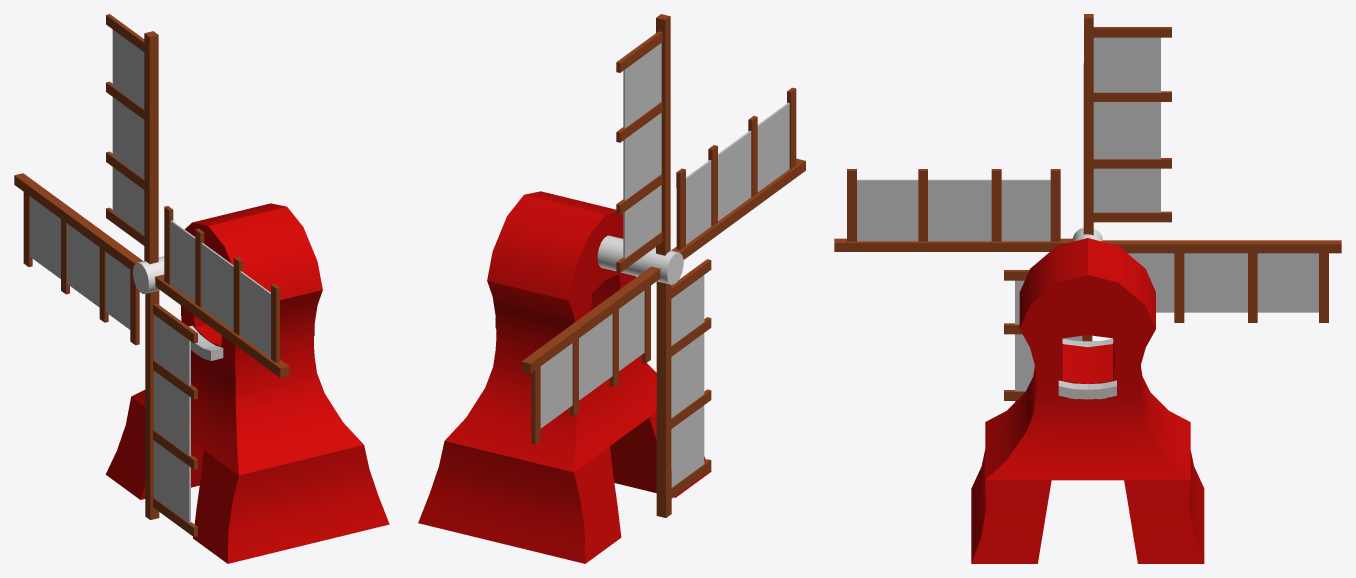
Rendered from Moulin_level0.fbx.
3 views of the same model, side by side, from view 1: azimuth 30°, elevation 25°; view 2: azimuth 150°, elevation 25°; view 3: azimuth 270°, elevation 25° (orthographic). The views are drawn at different scales.
Parts seen in each view (by area): view 1: Cube.184, Cube.185, Cube.187, Cube.186, Cube.188, Cylinder.013; view 2: Cube.184, Cube.187, Cube.185, Cube.188, Cube.186, Cylinder.013; view 3: Cube.184, Cube.186, Cube.185, Cube.188, Cube.187.
Boxes of the visible parts, bbox=[...] form: Cube.184: bbox=[105, 203, 389, 563]; Cube.185: bbox=[106, 14, 158, 264]; Cube.187: bbox=[145, 290, 197, 536]; Cube.186: bbox=[155, 206, 289, 377]; Cube.188: bbox=[14, 173, 143, 345]; Cylinder.013: bbox=[133, 256, 164, 293]; Cube.184: bbox=[418, 191, 711, 563]; Cube.187: bbox=[656, 259, 711, 517]; Cube.185: bbox=[616, 14, 670, 272]; Cube.188: bbox=[521, 266, 660, 444]; Cube.186: bbox=[671, 87, 805, 259]; Cylinder.013: bbox=[597, 235, 683, 284]; Cube.184: bbox=[971, 238, 1204, 563]; Cube.186: bbox=[834, 169, 1073, 251]; Cube.185: bbox=[1083, 14, 1171, 235]; Cube.188: bbox=[1102, 240, 1341, 322]; Cube.187: bbox=[1004, 270, 1092, 401].
Bounding box in the file's own units: 1135 × 2822 × 2788.
